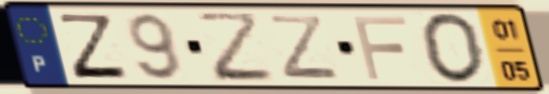9: (125, 11, 185, 83)
F: (349, 13, 410, 82)
O: (418, 11, 488, 87)
Z: (192, 10, 279, 84), (265, 13, 344, 82), (56, 11, 132, 81)
